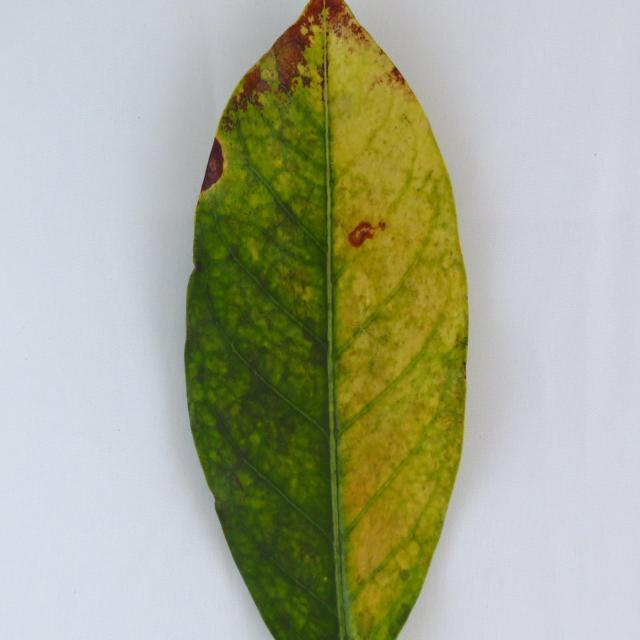DeficienciaNutricional-Manganeso: (185, 2, 468, 638)
